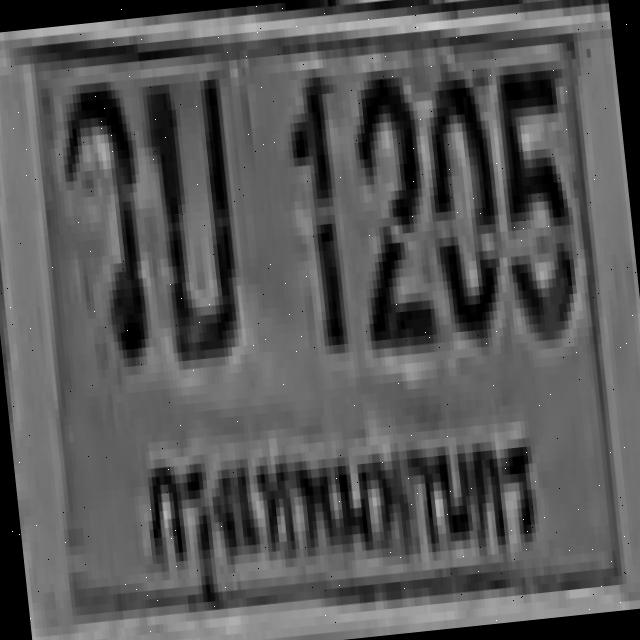0: (416, 64, 506, 337)
1: (280, 68, 348, 348)
2: (338, 59, 433, 341)
35BorBaiMai: (134, 66, 245, 358)
46WorWaen: (53, 71, 152, 362)
5: (488, 56, 578, 330)
Bangkok: (126, 402, 558, 636)
